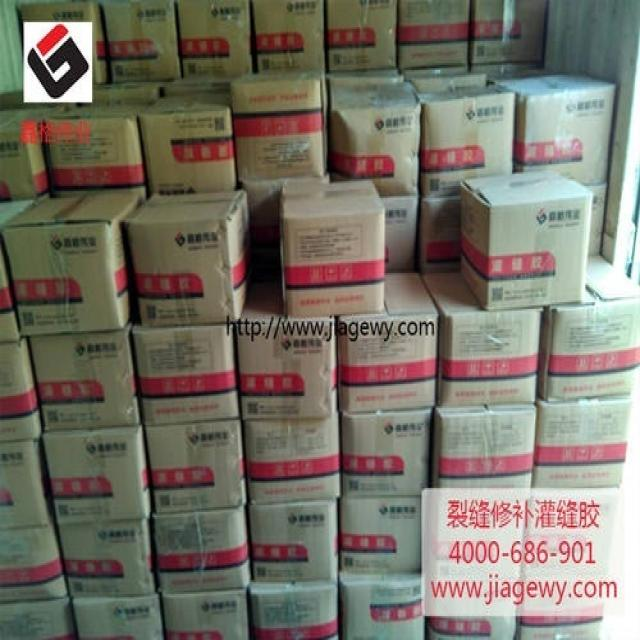box: (1, 195, 138, 338), (461, 167, 593, 311), (125, 189, 253, 326), (422, 271, 540, 408), (539, 254, 639, 401), (337, 273, 439, 413), (236, 280, 338, 420), (282, 179, 384, 316), (497, 72, 614, 184), (29, 319, 141, 430), (132, 319, 239, 425), (419, 84, 516, 198), (42, 427, 152, 526), (230, 70, 328, 177), (330, 82, 421, 196), (138, 92, 237, 193), (532, 396, 635, 488), (145, 420, 246, 512), (430, 404, 538, 490), (243, 416, 340, 503), (152, 509, 252, 592), (46, 106, 147, 186), (340, 408, 433, 493), (59, 521, 157, 597), (250, 500, 338, 582), (23, 2, 109, 82), (339, 497, 424, 570), (105, 0, 180, 82), (340, 570, 426, 640), (177, 0, 252, 79), (0, 108, 63, 200), (242, 176, 328, 242), (0, 524, 68, 602), (253, 0, 325, 72), (250, 582, 339, 640), (326, 0, 397, 72), (468, 0, 545, 65), (0, 440, 54, 529), (399, 0, 468, 67), (161, 589, 250, 640), (0, 340, 42, 442), (72, 594, 164, 640), (0, 594, 78, 640), (419, 196, 461, 271), (380, 196, 417, 271), (425, 616, 517, 640), (0, 235, 20, 341), (403, 68, 486, 92), (517, 617, 603, 638), (56, 188, 145, 207), (108, 80, 169, 106), (585, 186, 608, 254), (474, 65, 557, 82), (165, 75, 237, 94), (325, 68, 404, 85), (0, 201, 36, 234), (1, 89, 24, 109), (93, 84, 114, 104)
